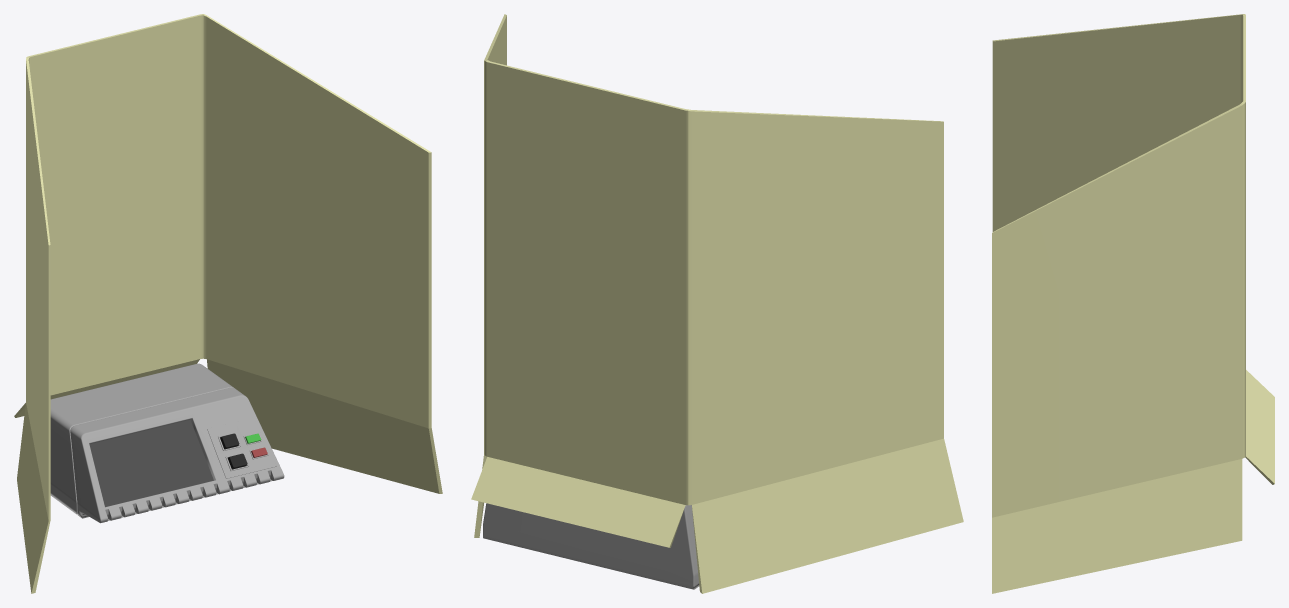
Rendered from urna_cabine.fbx.
3 views of the same model, side by side, from view 1: azimuth 30°, elevation 25°; view 2: azimuth 150°, elevation 25°; view 3: azimuth 270°, elevation 25° (orthographic). The views are drawn at different scales.
Parts seen in each view (by area): view 1: cabine_votacao, urna, tela; view 2: cabine_votacao, urna; view 3: cabine_votacao.
Part boxes in pixels (x1,y1,x2,y2): cabine_votacao: (14,14,442,593); urna: (50,363,284,523); tela: (89,420,213,506); cabine_votacao: (471,14,963,593); urna: (483,503,699,589); cabine_votacao: (992,14,1274,593).
Bounding box in the file's own units: 508 × 494 × 293.
